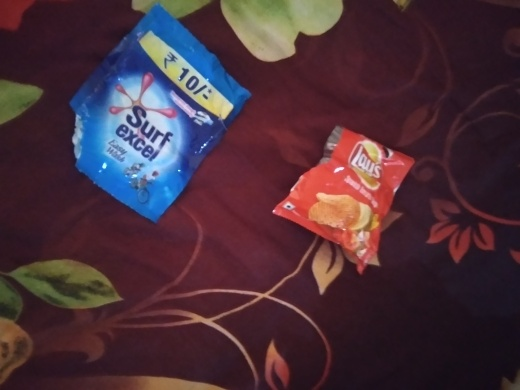lays: (288, 101, 415, 283)
surf: (60, 4, 253, 227)
